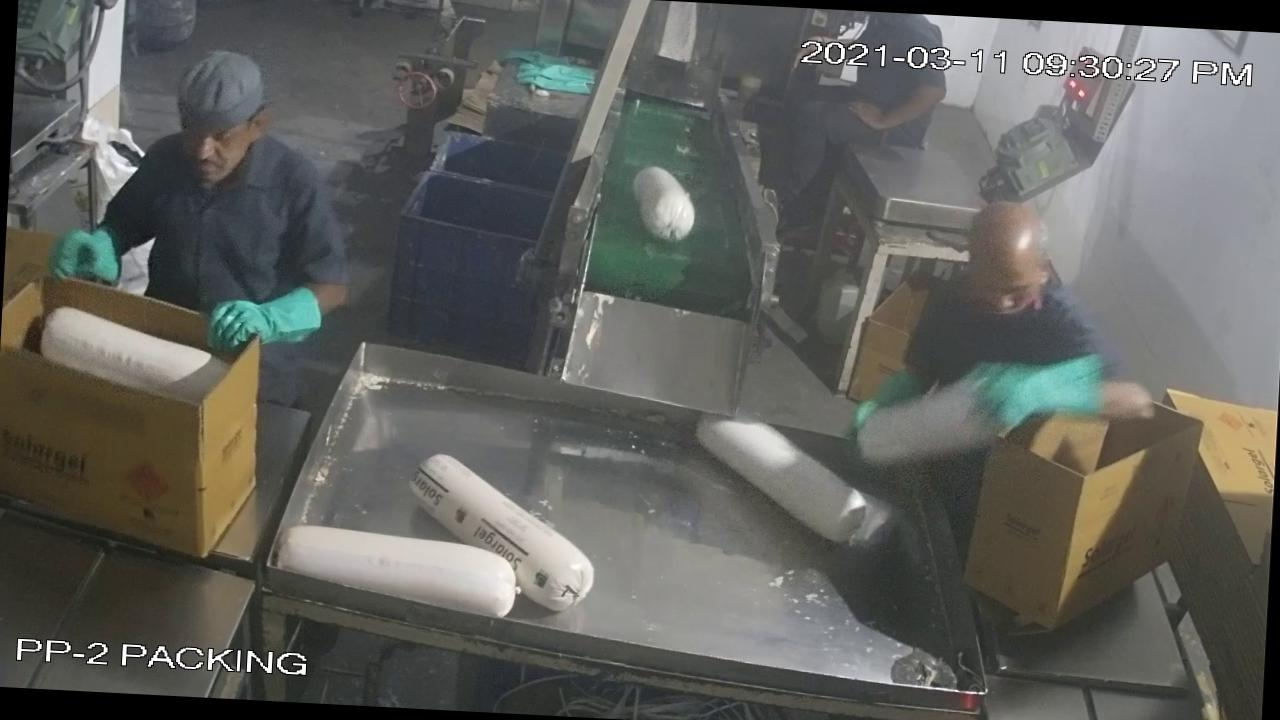Gloves: (202, 281, 331, 355)
No-gloves: (844, 72, 966, 154)
